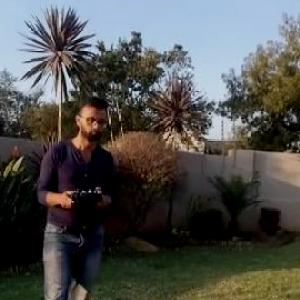follow: (33, 91, 117, 299)
